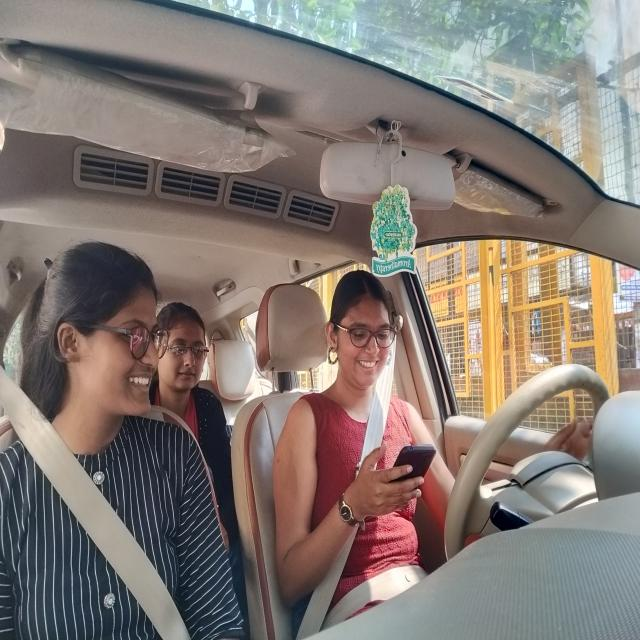mobile: (385, 430, 450, 536)
person: (31, 231, 167, 439), (317, 259, 417, 413), (151, 288, 211, 404)
